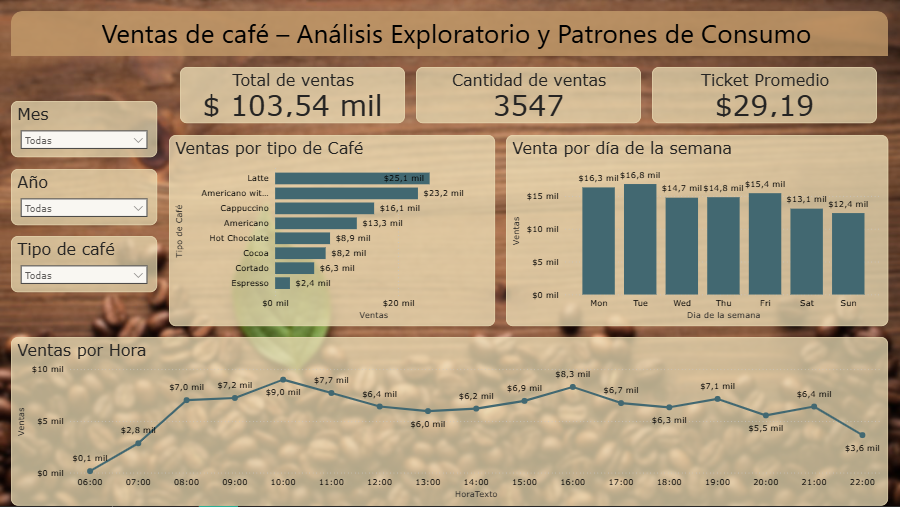

The page's visual inventory and layout, read from the dashboard file:
{"tool":"powerbi","page":{"name":"Página 1","canvas":[1280,720],"ordinal":0},"visuals":[{"type":"barChart","title":"Ventas por tipo de Café","fields":{"Category":["Coffe_sales.coffee_name"],"Y":["Sum(Coffe_sales.money)"]},"box":[240,192,464,272],"z":0},{"type":"lineChart","title":"Ventas por Hora","fields":{"Y":["Sum(Coffe_sales.money)"],"Category":["Horas.HoraTexto","Horas.Value"]},"box":[16,480,1248,240],"z":1000},{"type":"columnChart","title":"Venta por día de la semana","fields":{"Y":["Sum(Coffe_sales.money)"],"Category":["Coffe_sales.Weekday"]},"box":[720,192,544,272],"z":2000},{"type":"shape","title":"Ventas de café - Análisis exploratorio","box":[16,16,1248,64],"z":3000},{"type":"card","title":"Total de ventas","fields":{"Values":["Sum(Coffe_sales.money)"]},"box":[256,96,320,80],"z":4000},{"type":"card","title":"Cantidad de ventas","fields":{"Values":["Coffe_sales.CantidadVentas"]},"box":[592,96,320,80],"z":5000},{"type":"card","title":"Ticket Promedio","fields":{"Values":["Coffe_sales.TicketPromedio"]},"box":[928,96,320,80],"z":6000},{"type":"slicer","title":"Mes","fields":{"Values":["Coffe_sales.Month_name"]},"box":[16,144,208,80],"z":7000},{"type":"slicer","title":"Tipo de café","fields":{"Values":["Coffe_sales.coffee_name"]},"box":[16,336,208,80],"z":8000},{"type":"slicer","title":"Año","fields":{"Values":["Coffe_sales.Date.Variación.Jerarquía de fechas.Año"]},"box":[16,240,208,80],"z":10000}]}

Visuals, with their boxes in screenshot pixels (x1, y1, x2, y2), scaled from the page's 1280x720 canvas onto the 900x507 screenshot:
"Ventas por tipo de Café" barChart: bbox=[169, 135, 495, 327]
"Ventas por Hora" lineChart: bbox=[11, 338, 889, 506]
"Venta por día de la semana" columnChart: bbox=[506, 135, 889, 327]
"Ventas de café - Análisis exploratorio" shape: bbox=[11, 11, 889, 56]
"Total de ventas" card: bbox=[180, 68, 405, 124]
"Cantidad de ventas" card: bbox=[416, 68, 641, 124]
"Ticket Promedio" card: bbox=[652, 68, 878, 124]
"Mes" slicer: bbox=[11, 101, 158, 158]
"Tipo de café" slicer: bbox=[11, 237, 158, 293]
"Año" slicer: bbox=[11, 169, 158, 225]
